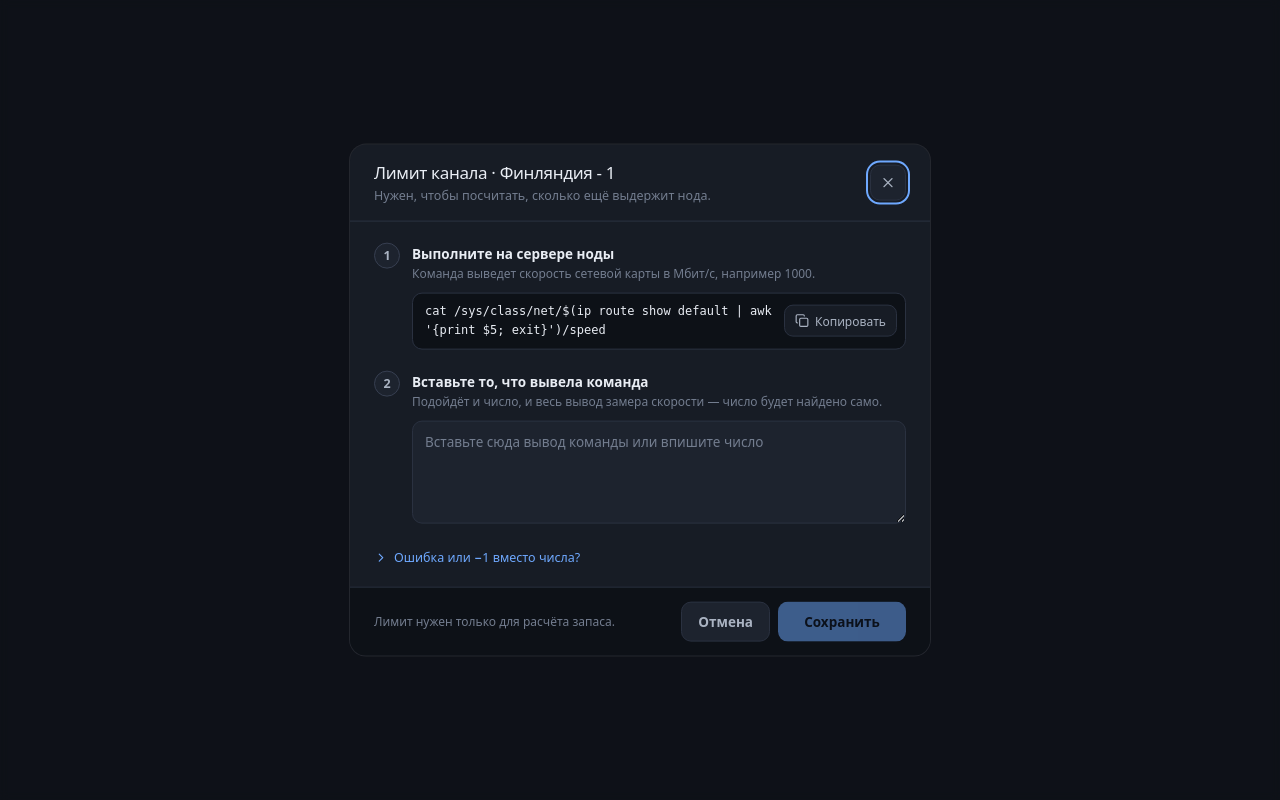
Test: окно «Лимит канала» › ошибка сохранения показана в окне, окно остаётся открытым
The width and height of the screenshot is (1280, 800).
Type "500" into the text box named "Вывод команды или скорость канала" at (659, 472), box [412, 420, 906, 524]
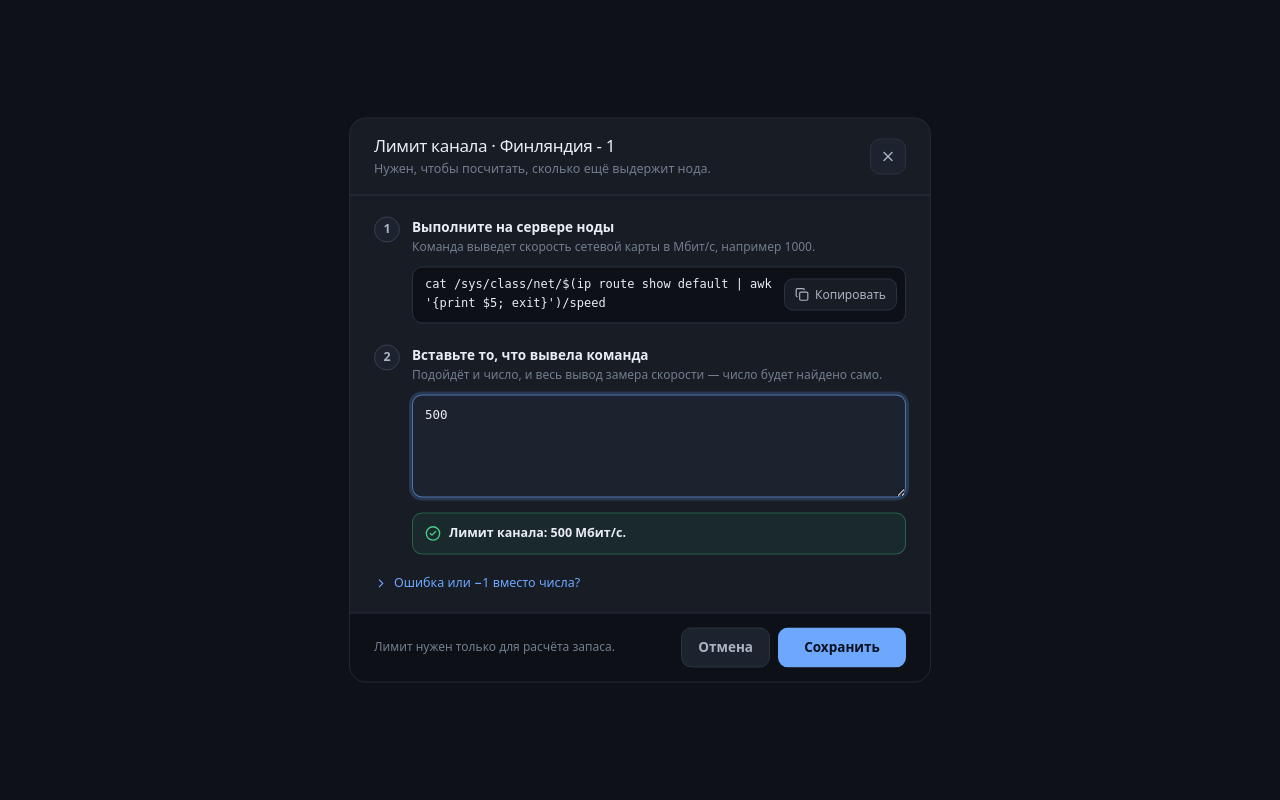
Click the button "Сохранить" at (842, 648), box [778, 628, 906, 668]
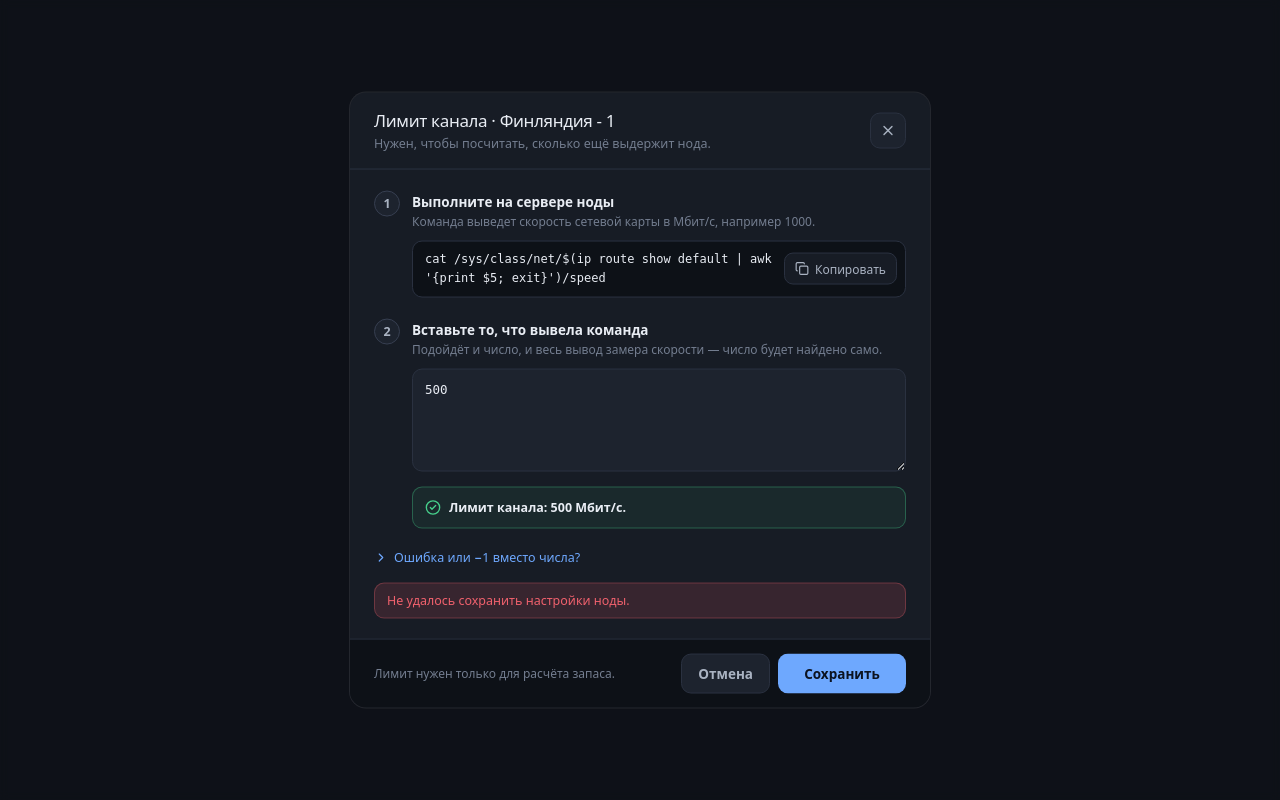
Result: the message "Не удалось сохранить настройки ноды." is shown at [374, 583, 906, 618]
